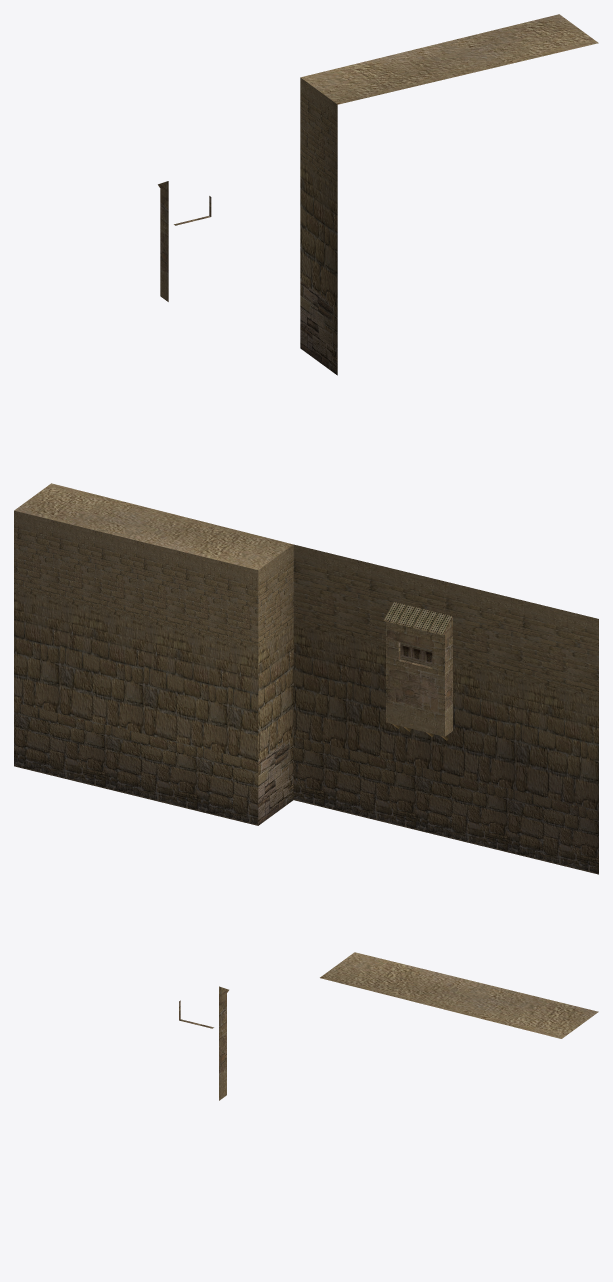
File: M7Z4_FortWall4_E.glb
3 views of the same model, one above another, from view 1: azimuth 30°, elevation 25°; view 2: azimuth 150°, elevation 25°; view 3: azimuth 330°, elevation 25° (orthographic). The views are drawn at different scales.
Parts seen in each view (by area): view 1: M7Z4_FORTWALL4_E; view 2: M7Z4_FORTWALL4_E; view 3: M7Z4_FORTWALL4_E.
Part boxes in pixels (left/top/right/bottom): M7Z4_FORTWALL4_E: left=158, top=14, right=598, bottom=375; M7Z4_FORTWALL4_E: left=14, top=483, right=598, bottom=874; M7Z4_FORTWALL4_E: left=179, top=952, right=598, bottom=1100.
Bounding box in the file's own units: 36 × 16 × 4.24.
Materials: 8 (8 with a texture image).
